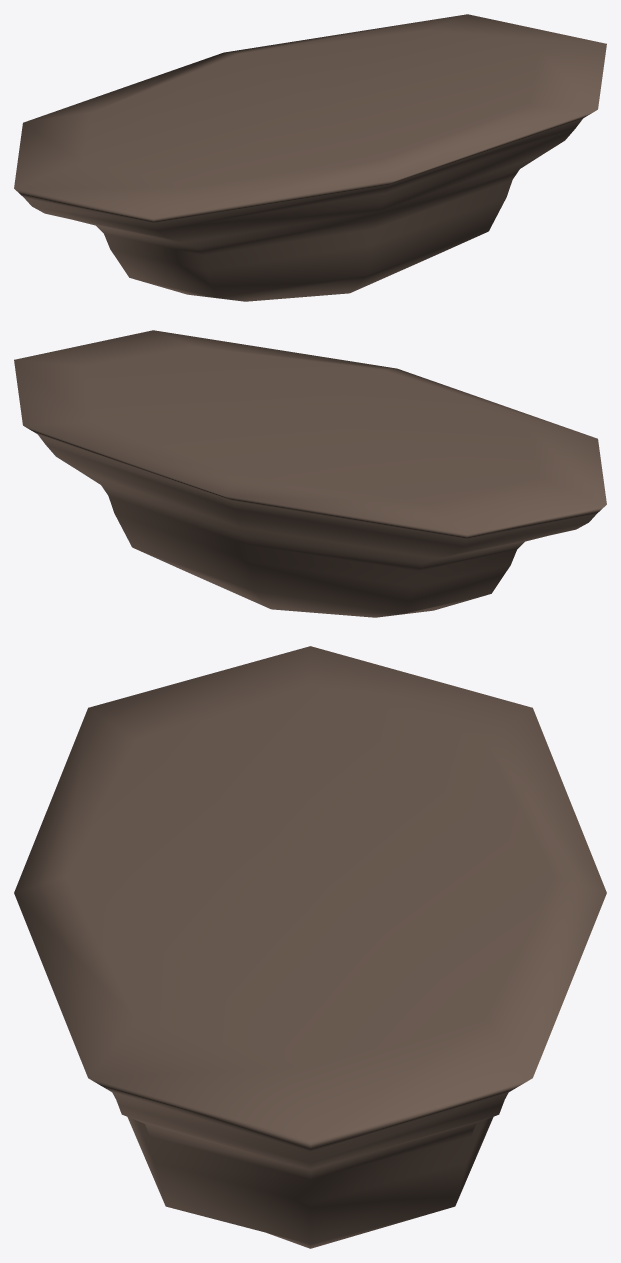
Rendered from SM_Stone2.fbx.
3 renders of one model, top to bottom at view 1: azimuth 30°, elevation 25°; view 2: azimuth 150°, elevation 25°; view 3: azimuth 270°, elevation 25°, orthographic. The views are drawn at different scales.
Parts seen in each view (by area): view 1: SM_Stone_2; view 2: SM_Stone_2; view 3: SM_Stone_2.
Boxes of the visible parts, <box> form: SM_Stone_2: <box>14,14,606,301</box>; SM_Stone_2: <box>14,330,606,617</box>; SM_Stone_2: <box>14,646,606,1248</box>.
Bounding box in the file's own units: 1574 × 436 × 799.
